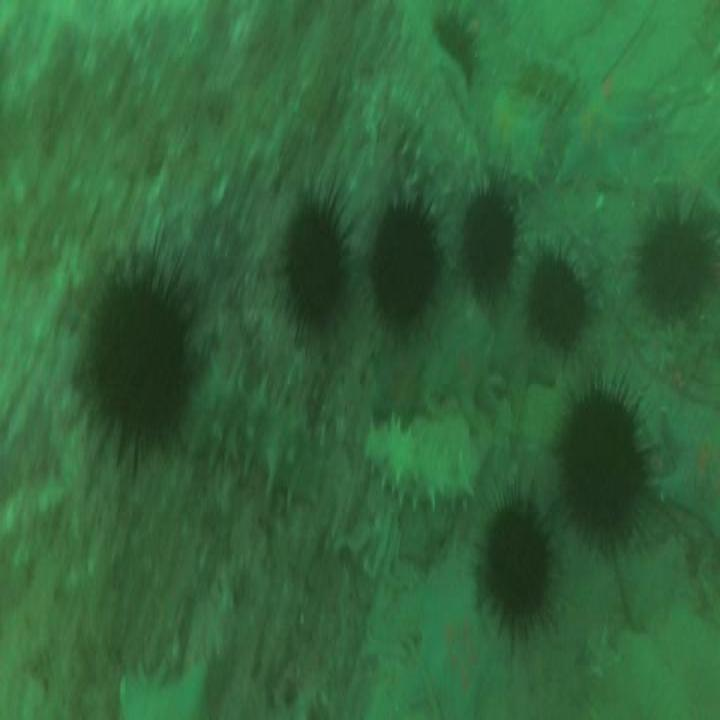echinus: (88, 272, 188, 455), (560, 387, 642, 537), (373, 201, 442, 327), (483, 502, 551, 622), (640, 208, 710, 316), (285, 210, 344, 325), (463, 190, 516, 288), (529, 253, 584, 343)
holothurian: (185, 361, 332, 499), (365, 418, 479, 505), (516, 39, 577, 110)
starfish: (413, 574, 502, 720), (556, 82, 648, 185), (660, 398, 720, 535), (490, 308, 551, 406), (484, 89, 542, 172), (435, 325, 492, 404), (371, 348, 424, 426)
